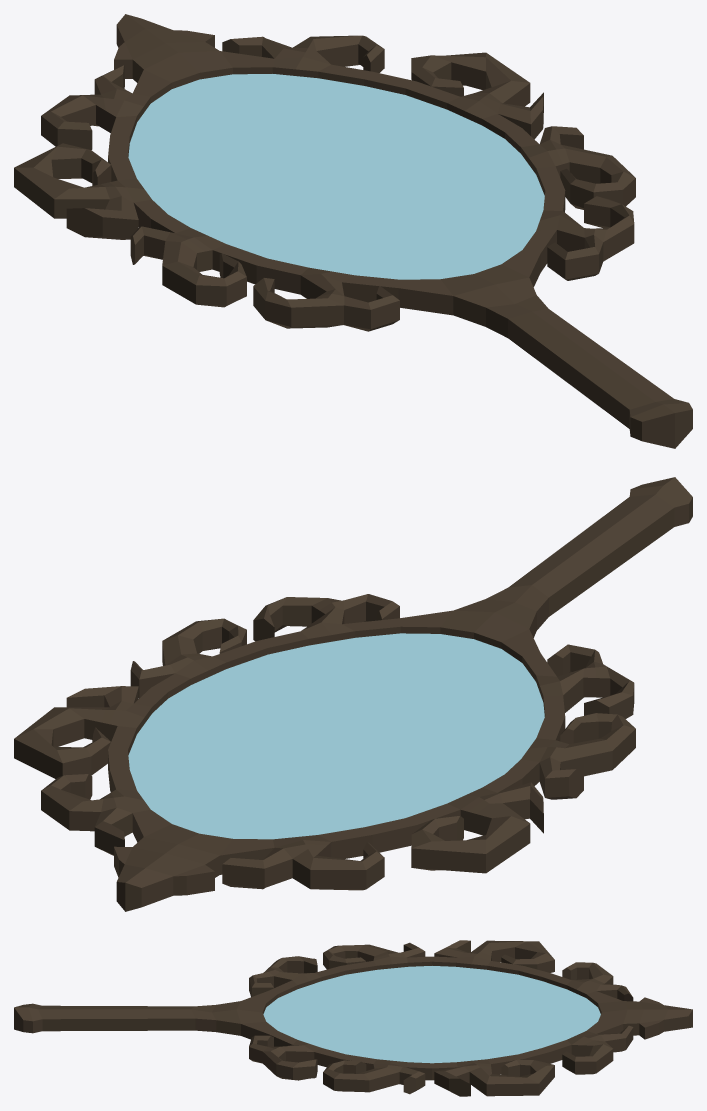
Rendered from MirrorModel.fbx.
3 renders of one model, top to bottom at view 1: azimuth 30°, elevation 25°; view 2: azimuth 150°, elevation 25°; view 3: azimuth 270°, elevation 25°, orthographic. The views are drawn at different scales.
Parts seen in each view (by area): view 1: Cylinder; view 2: Cylinder; view 3: Cylinder.
Boxes of the visible parts, x1,y1,x2,y2 form: Cylinder: (14,14,692,448); Cylinder: (14,477,692,911); Cylinder: (14,940,692,1096).
Bounding box in the file's own units: 257 × 20.11 × 513.
